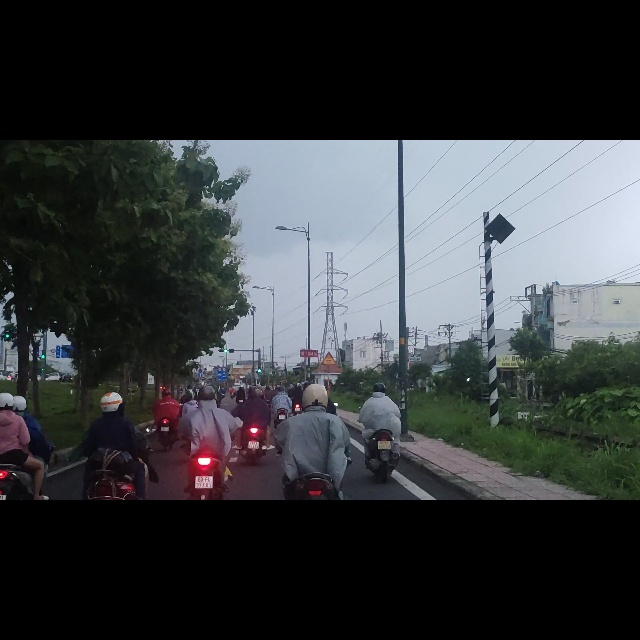bien_cam: (321, 375, 336, 401)
